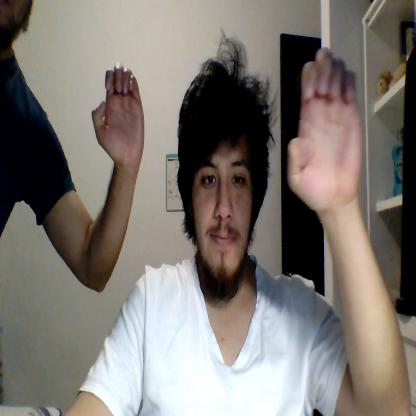E: (287, 47, 362, 212), (92, 64, 146, 164)
